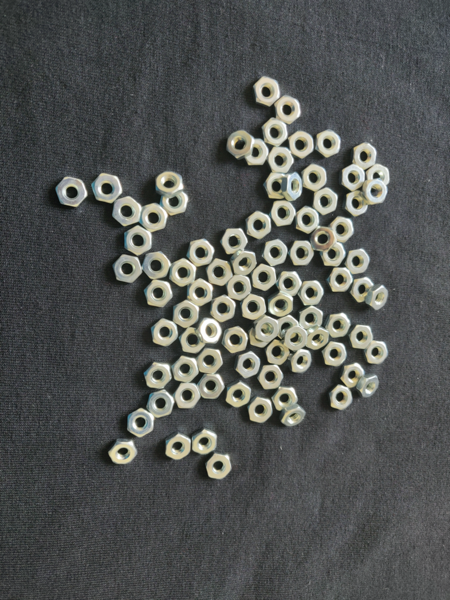nut: (56, 177, 88, 209), (162, 429, 192, 462), (149, 314, 178, 348), (140, 248, 171, 279), (186, 235, 217, 266), (93, 173, 123, 205), (111, 196, 142, 226), (288, 128, 316, 161), (141, 390, 175, 417), (124, 224, 154, 254), (113, 256, 145, 284), (143, 280, 173, 309), (125, 408, 154, 438), (222, 381, 255, 407), (225, 129, 254, 158), (173, 382, 202, 411), (274, 93, 301, 124), (169, 257, 195, 289), (311, 220, 337, 252), (193, 422, 217, 456), (246, 397, 274, 426), (139, 203, 168, 231), (171, 298, 199, 327), (219, 228, 248, 256), (267, 146, 295, 175), (244, 209, 271, 239), (107, 440, 139, 465), (316, 129, 343, 158), (321, 342, 350, 369), (143, 363, 172, 390), (293, 203, 320, 232), (262, 238, 289, 266), (326, 265, 354, 292), (198, 372, 225, 400), (256, 365, 284, 392), (254, 76, 280, 105), (252, 262, 278, 291), (210, 296, 239, 322), (236, 350, 262, 379), (208, 257, 233, 287), (264, 114, 286, 148), (341, 161, 365, 192), (206, 454, 233, 481), (269, 200, 296, 227), (247, 322, 274, 349), (196, 347, 222, 375), (299, 278, 325, 306), (303, 161, 328, 190), (223, 326, 248, 355), (156, 172, 184, 197), (275, 312, 300, 340), (174, 356, 198, 385), (180, 329, 206, 355), (241, 294, 267, 320), (353, 142, 378, 169), (328, 217, 355, 242), (351, 277, 378, 302), (321, 341, 348, 366), (243, 141, 270, 165), (189, 279, 212, 307), (233, 248, 256, 276), (326, 312, 354, 335), (327, 384, 352, 409), (290, 349, 315, 374), (289, 242, 315, 266), (365, 179, 389, 205), (314, 188, 338, 214), (345, 248, 369, 274), (321, 244, 345, 270), (199, 319, 225, 343), (282, 327, 308, 351), (298, 305, 325, 328), (257, 315, 279, 343), (227, 275, 251, 300), (162, 194, 188, 217), (369, 284, 392, 310), (367, 160, 389, 187), (352, 325, 376, 349), (274, 386, 298, 410), (265, 174, 287, 200), (278, 272, 304, 294), (269, 294, 295, 316), (263, 342, 289, 364), (365, 341, 389, 364), (358, 374, 381, 396), (285, 172, 303, 200), (346, 192, 367, 216), (342, 362, 366, 383), (308, 330, 329, 350), (282, 409, 305, 426)
